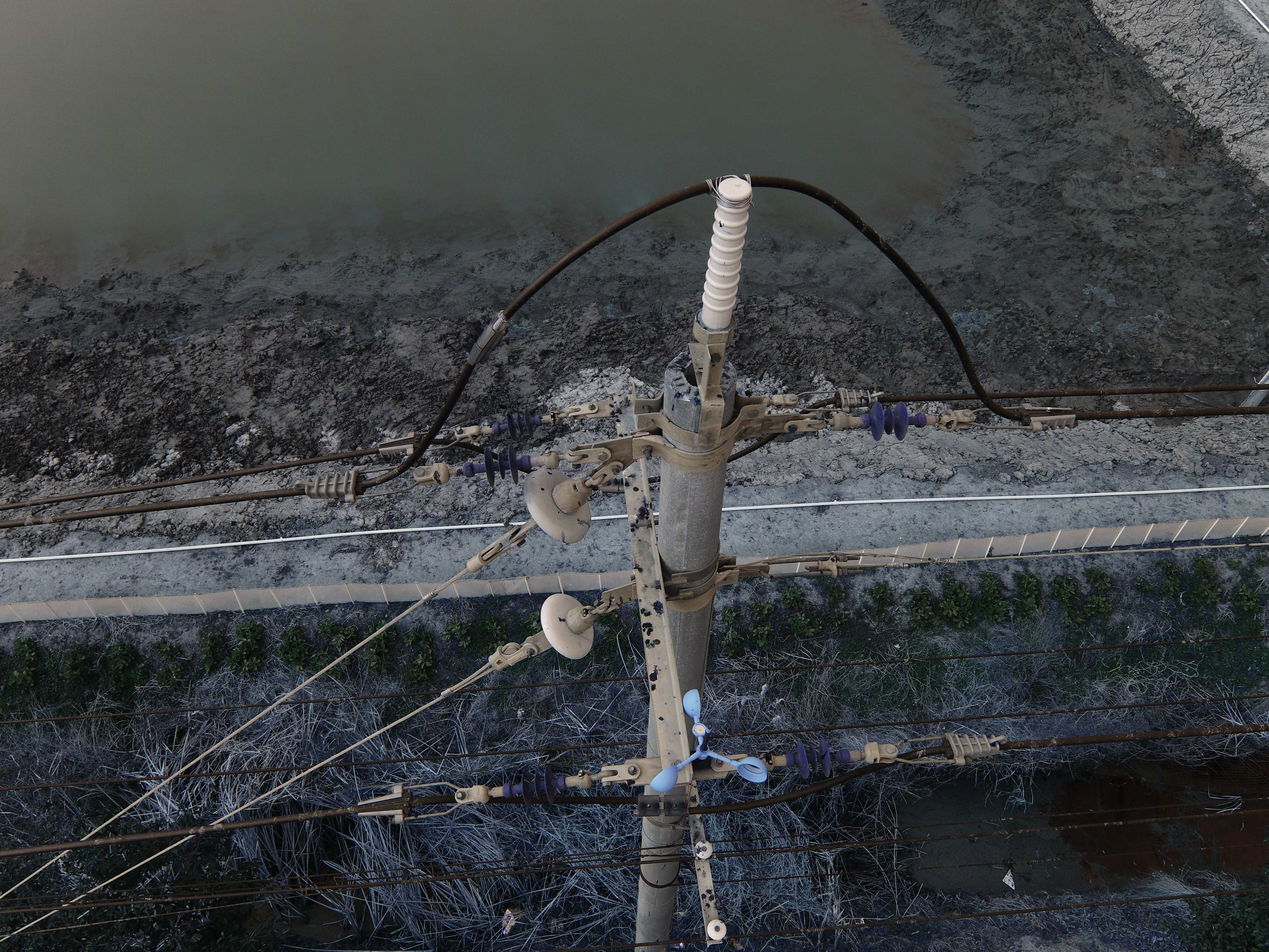severe_soiling_no_discharge_whole: (706, 915, 730, 942), (689, 838, 714, 859)
